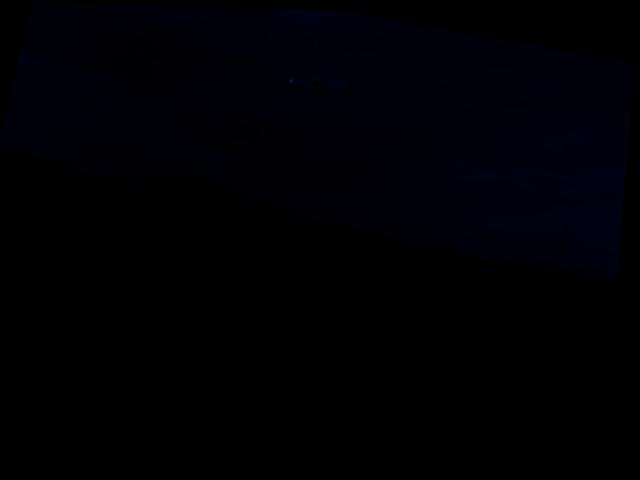plane: (283, 66, 354, 106)
